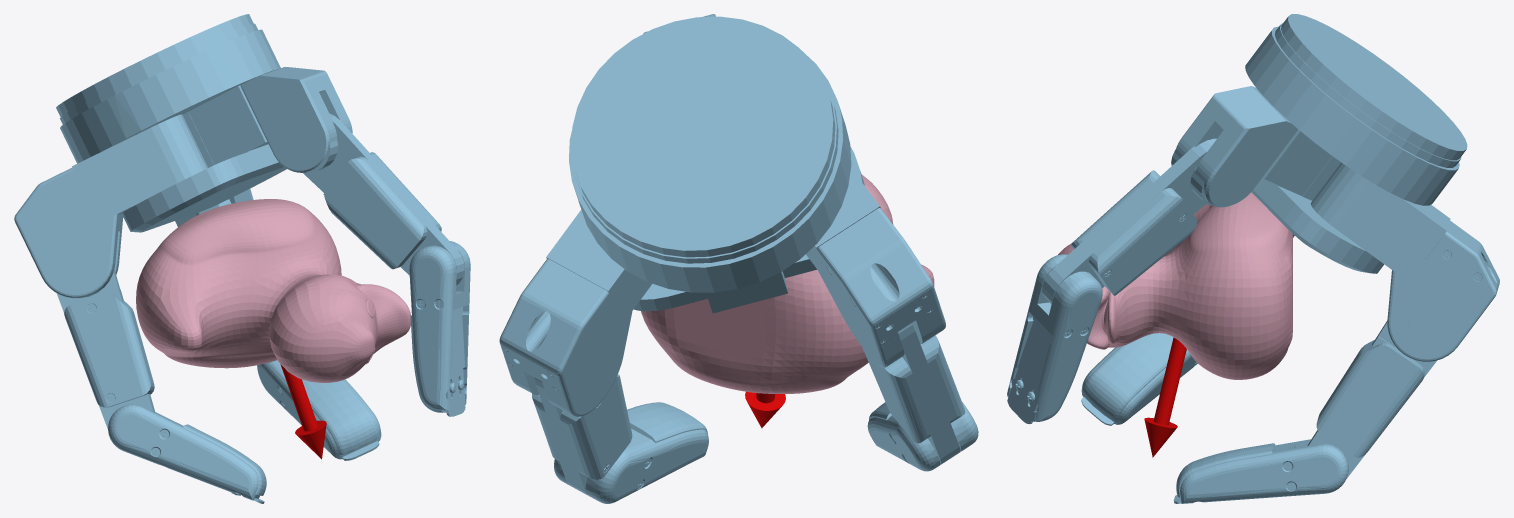
The picture shows the model from 3 angles, left to right: view 1: azimuth 30°, elevation 25°; view 2: azimuth 150°, elevation 25°; view 3: azimuth 270°, elevation 25°; orthographic projection. The views are drawn at different scales.
Visible parts, largest first — view 1: world, rubber_duck.stl; view 2: world, rubber_duck.stl; view 3: world, rubber_duck.stl.
Part boxes in pixels (x1,y1,x2,y2): world: [14, 14, 470, 503]; rubber_duck.stl: [136, 199, 410, 382]; world: [499, 14, 978, 503]; rubber_duck.stl: [641, 174, 934, 393]; world: [1007, 14, 1499, 503]; rubber_duck.stl: [1058, 192, 1292, 379].
Size of the model in its own units: 0.1503 by 0.1797 by 0.1883.
